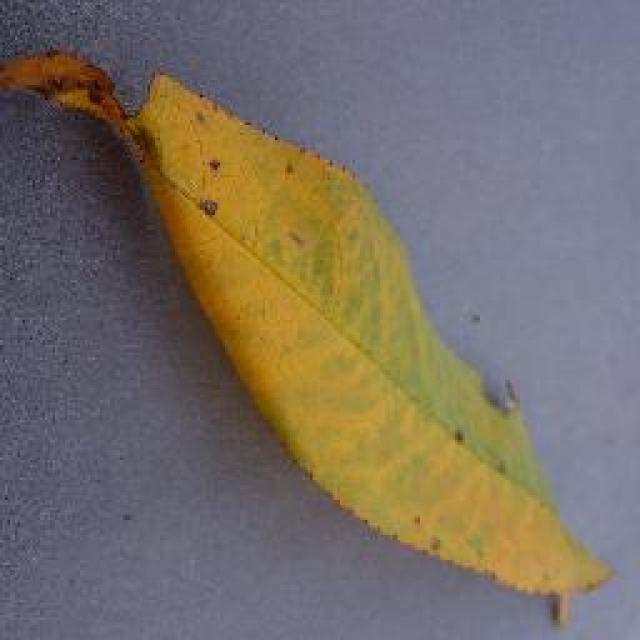Peach_Bacterial_Spot: (147, 90, 510, 487)
